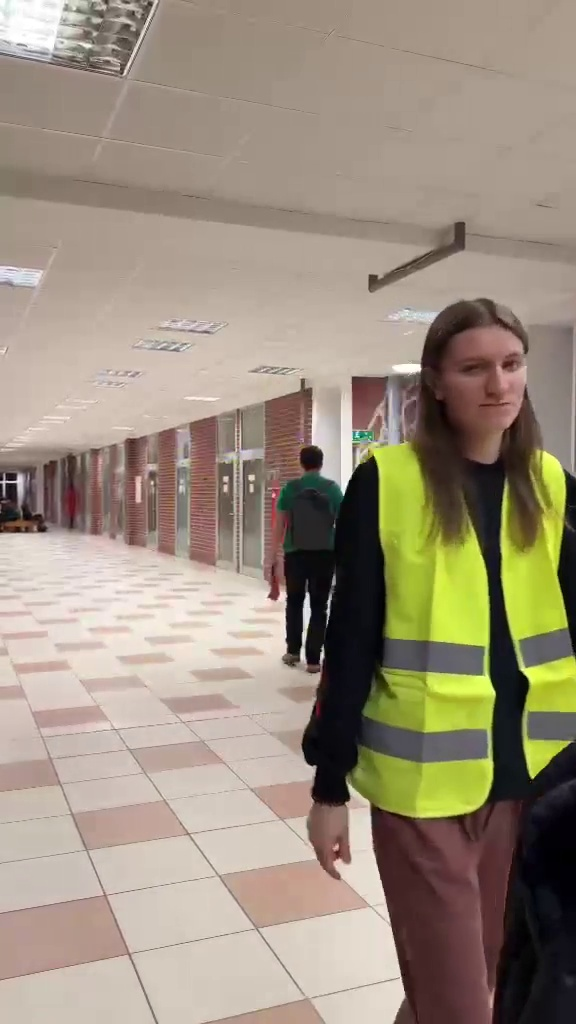no vest: (272, 446, 351, 664)
vest: (356, 308, 574, 997)
